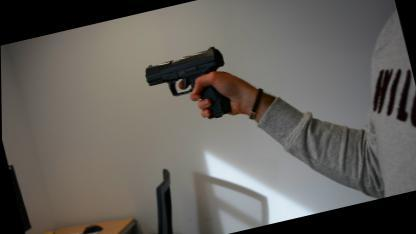pistol: (140, 44, 236, 130)
